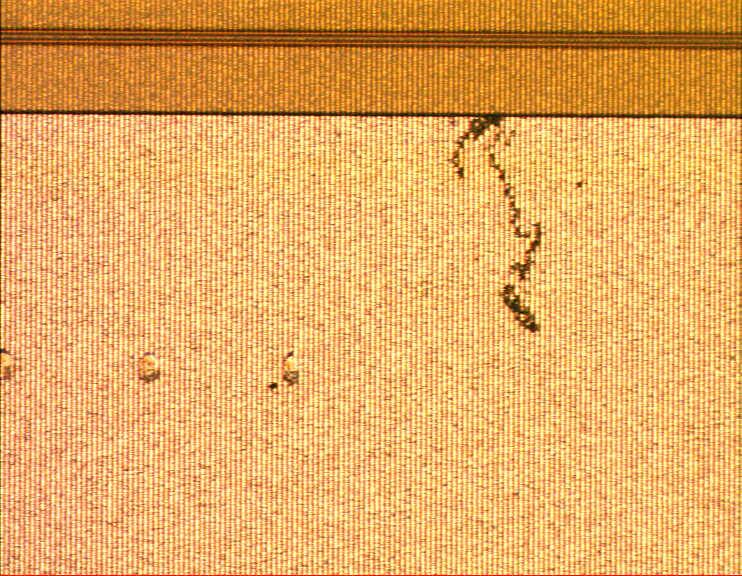SCRATCH: (442, 113, 550, 340)
